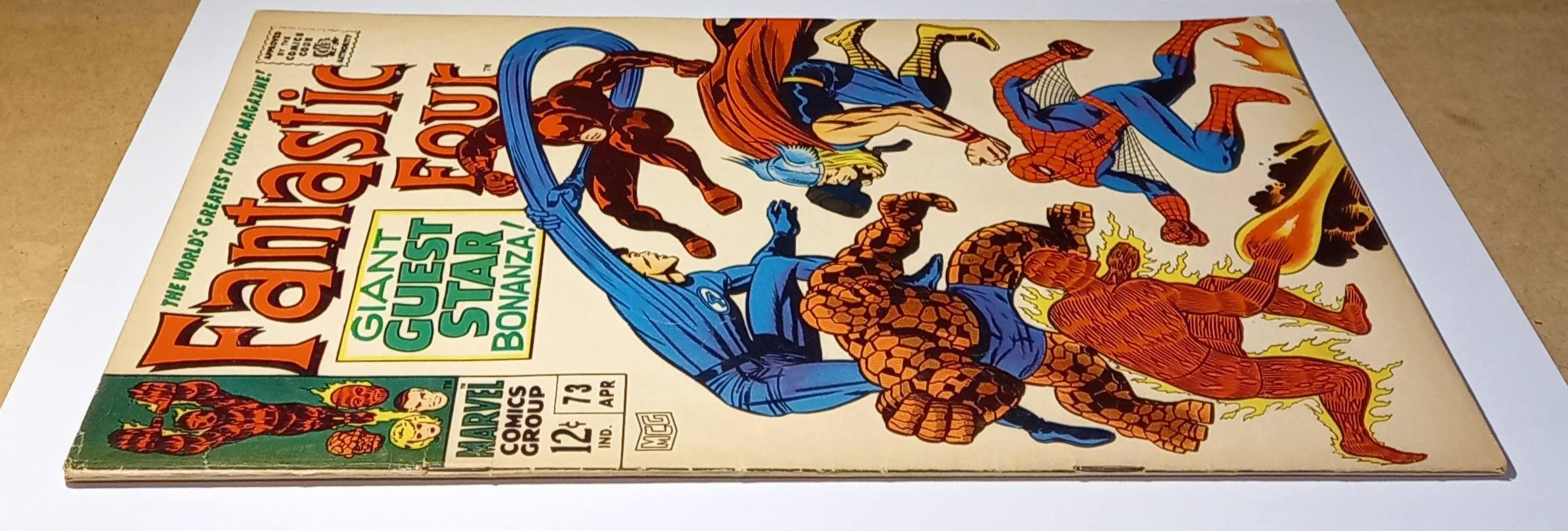comic: (66, 12, 1505, 480)
